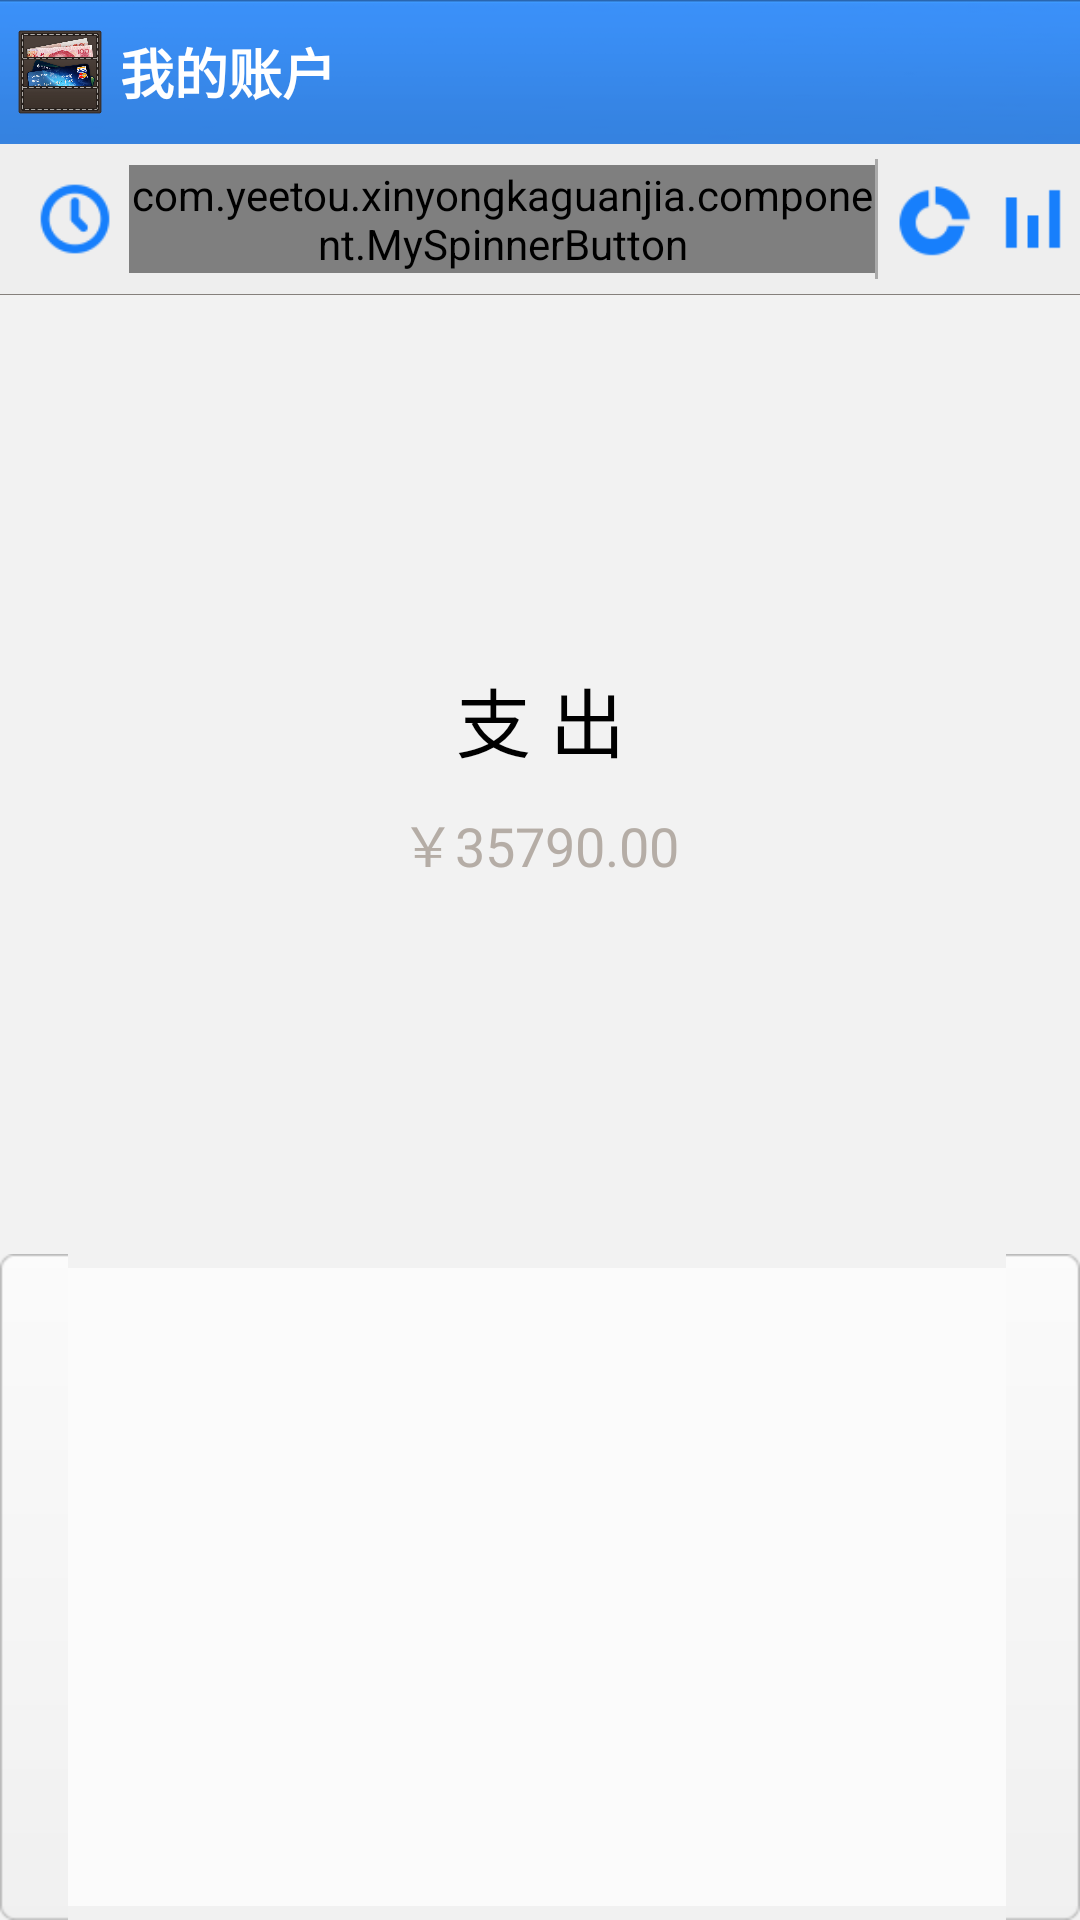

Named icons in this screenshot (1080w x 1920h) and their centers, point (x, y):
bar unclick: point (1033, 219)
pie unclick: point (934, 221)
